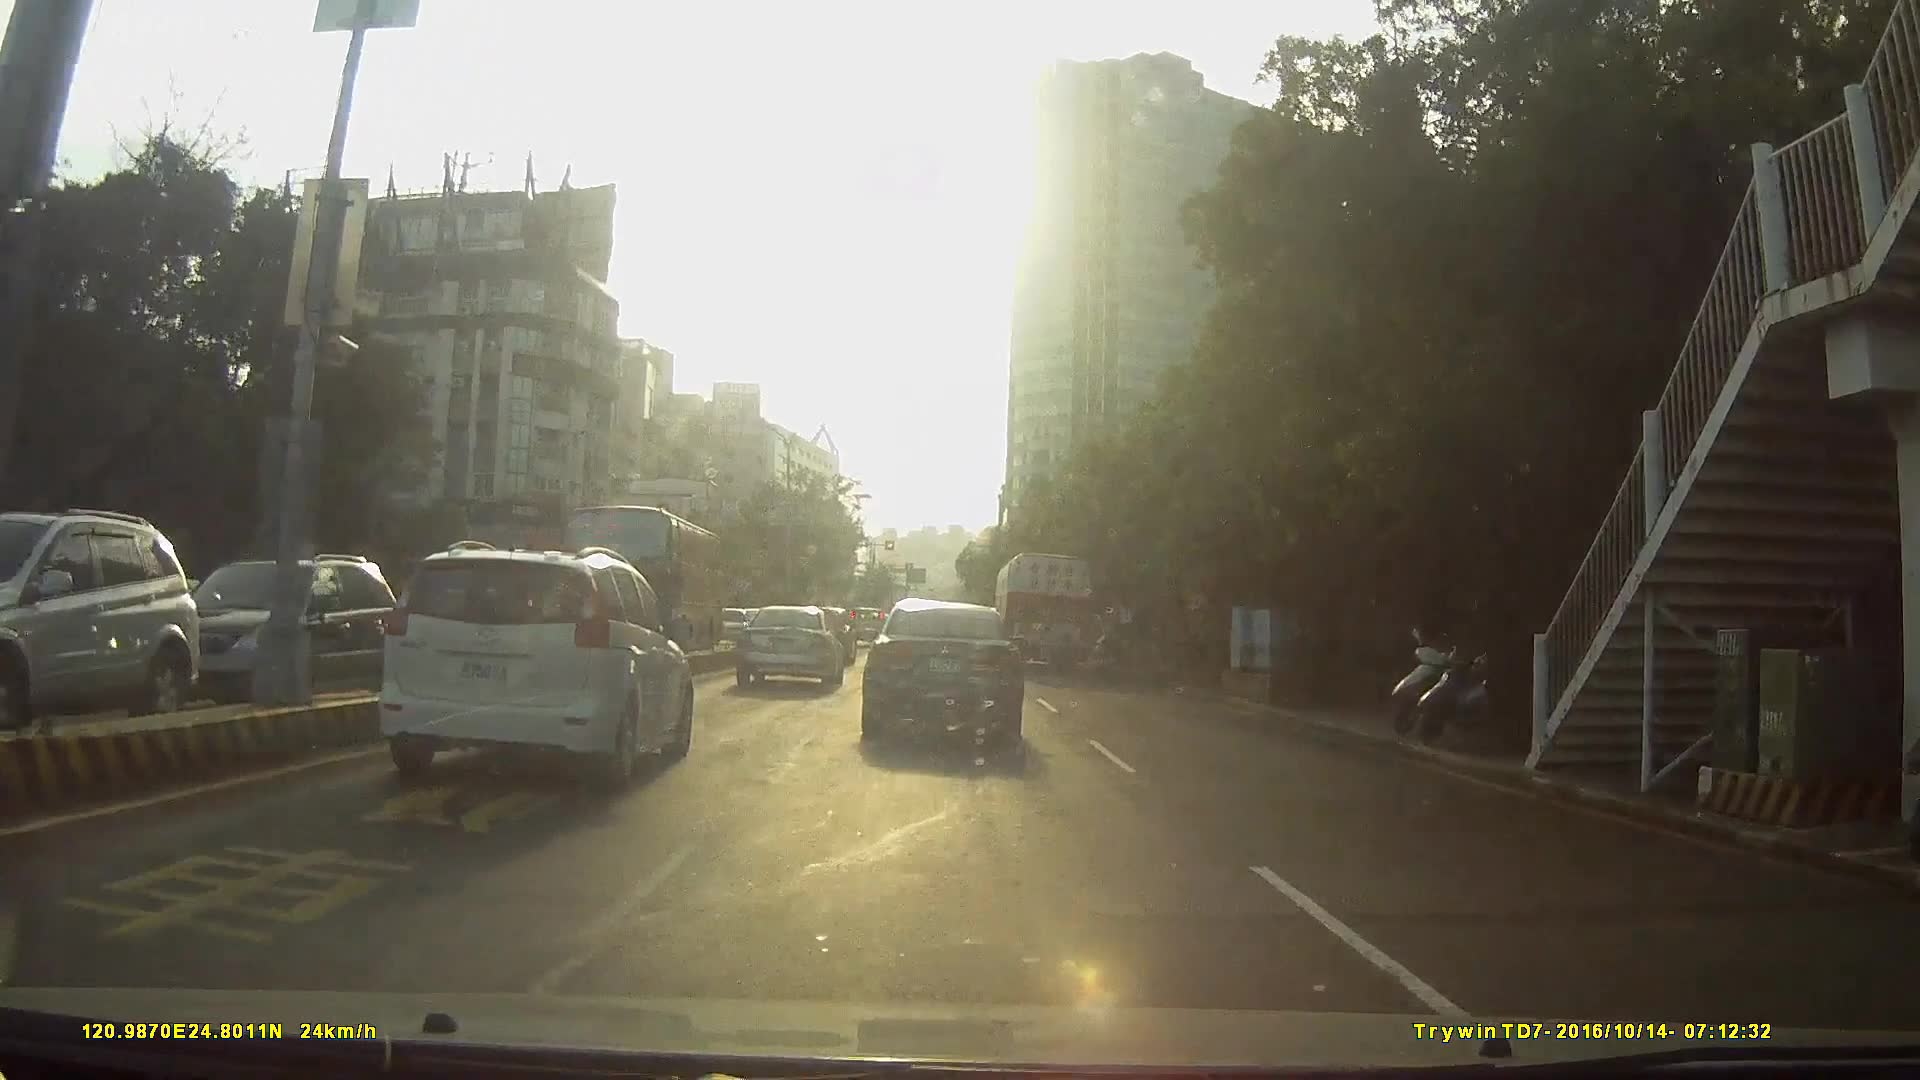vehicle: (251, 556, 684, 868), (377, 541, 694, 794), (1, 512, 237, 746), (146, 555, 405, 720), (860, 593, 1025, 762), (549, 504, 717, 653), (993, 554, 1098, 680), (732, 607, 843, 692), (843, 607, 890, 649)
